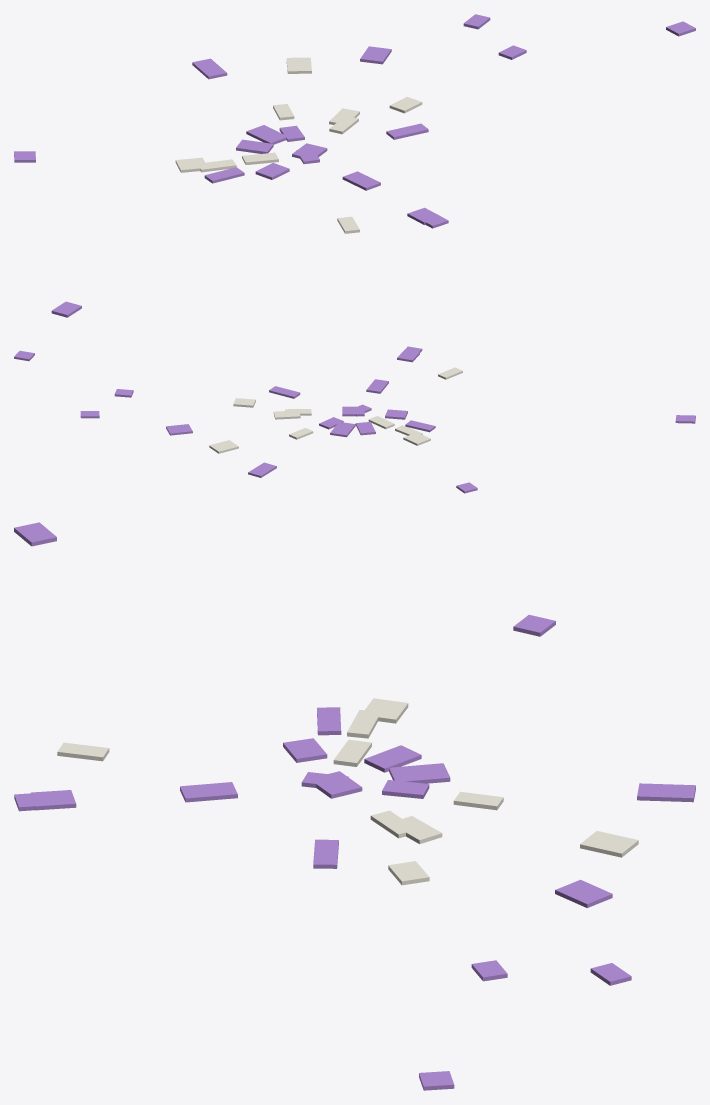
File: cover_petals_purple.glb
3 views of the same model, one above another, from view 1: azimuth 30°, elevation 25°; view 2: azimuth 150°, elevation 25°; view 3: azimuth 270°, elevation 25° (orthographic). The views are drawn at different scales.
Parts seen in each view (by area): view 1: biome_flowering_petals_purple; view 2: biome_flowering_petals_purple; view 3: biome_flowering_petals_purple.
Part boxes in pixels (x1=…): biome_flowering_petals_purple: x1=14, y1=14, x2=695, y2=317; biome_flowering_petals_purple: x1=14, y1=346, x2=695, y2=493; biome_flowering_petals_purple: x1=14, y1=522, x2=695, y2=1090.
Bounding box in the file's own units: 3.62 × 0.012 × 1.85.
